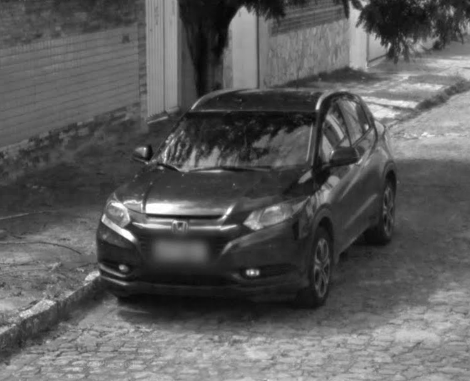car: (93, 65, 401, 318)
